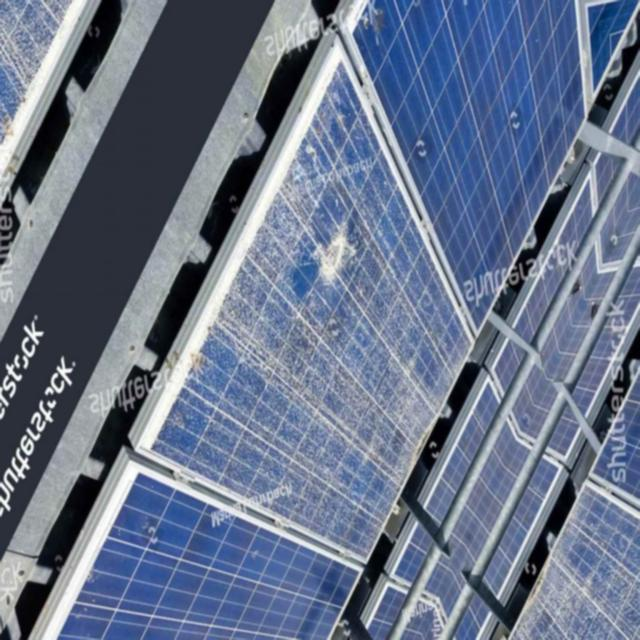cracked: (127, 53, 451, 569), (510, 489, 640, 639)
